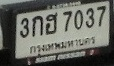num3: (19, 17, 30, 39)
txt01: (31, 15, 44, 37)
txt39: (44, 12, 59, 35)
